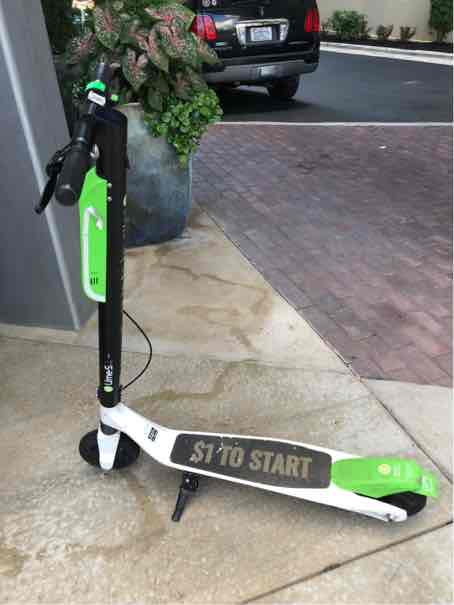scooter: (25, 47, 445, 541)
